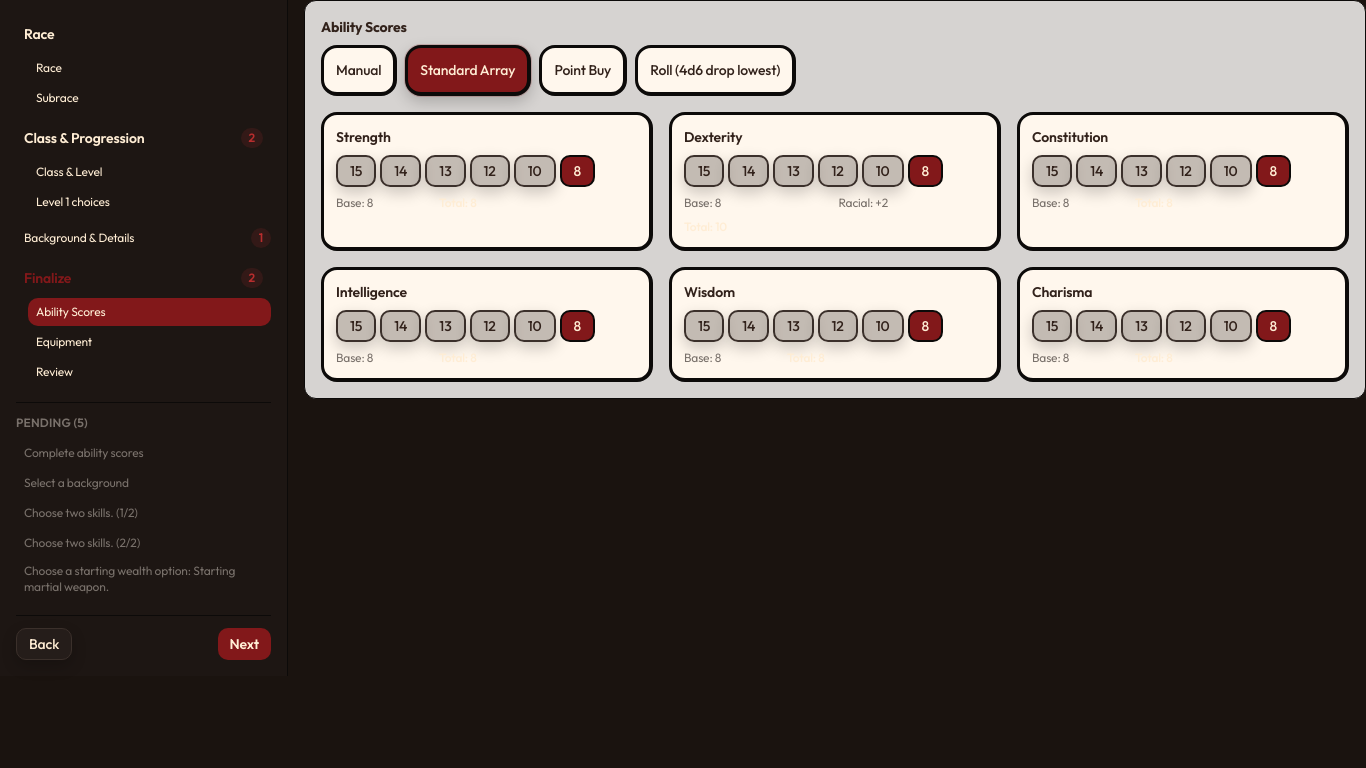
Test: PlayerCharacterForm abilities step › updates standard array UI immediately on first visit via stepper navigation
Expected: the text "Strength" is shown, [336,128,391,146]
Click the button "15" below "Strength" at (356, 171), box [336,155,376,187]
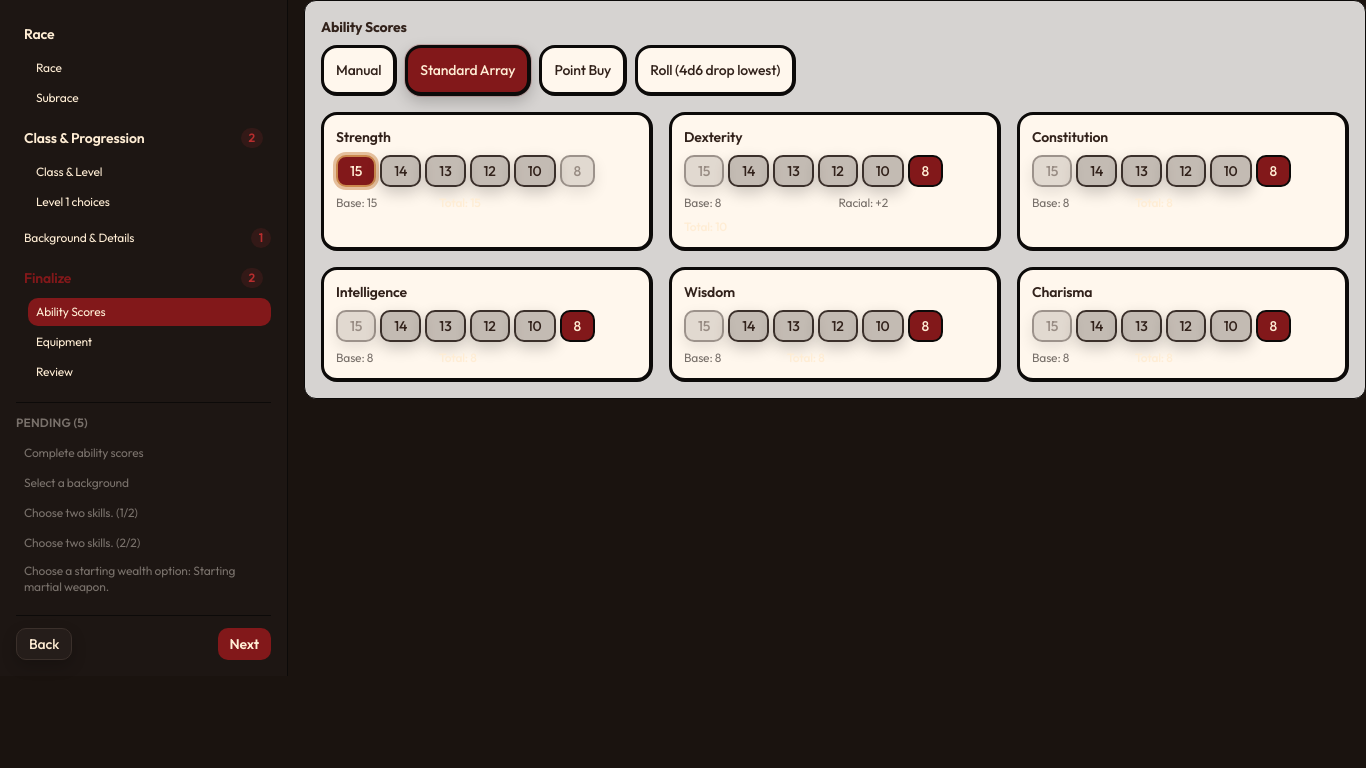
Expected: the text "Base: 15" is shown, [336,195,377,210]
